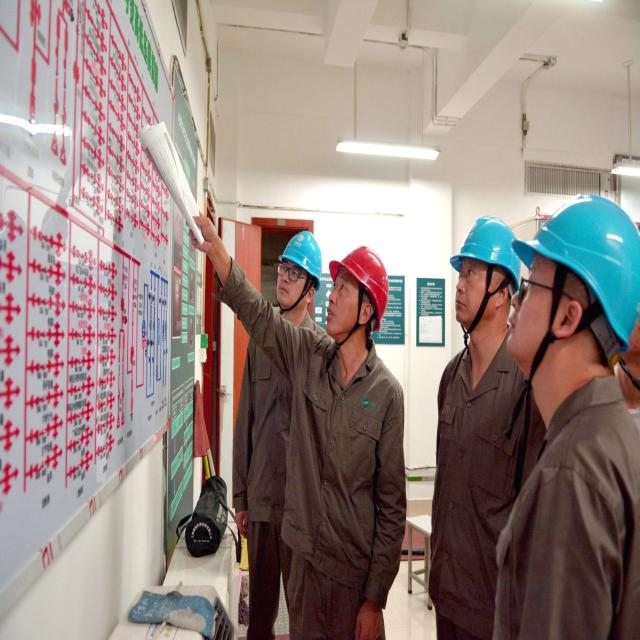face_nomask: (506, 253, 566, 376), (450, 264, 496, 334), (323, 273, 360, 333), (274, 259, 306, 316)
glasses: (275, 261, 301, 284)
hand_noglove: (184, 205, 226, 259), (352, 604, 390, 640), (230, 512, 251, 540)
head_helmet: (527, 192, 640, 350), (329, 242, 386, 328), (450, 220, 524, 284), (284, 228, 322, 276)
person: (518, 195, 630, 622), (435, 215, 522, 602), (330, 248, 391, 637), (270, 224, 320, 446)
